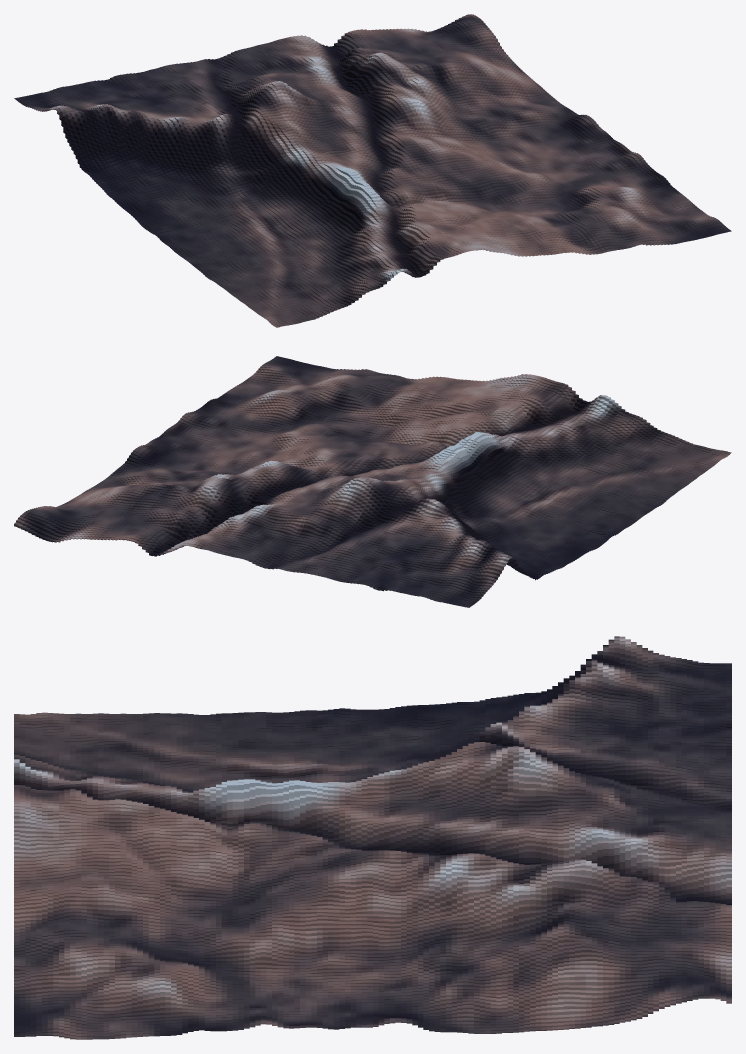
Rendered from chunk-09.glb.
The picture shows the model from 3 angles, top to bottom: view 1: azimuth 30°, elevation 25°; view 2: azimuth 150°, elevation 25°; view 3: azimuth 270°, elevation 25°; orthographic projection. The views are drawn at different scales.
Parts seen in each view (by area): view 1: Mesh_0.025; view 2: Mesh_0.025; view 3: Mesh_0.025.
Part boxes in pixels (x1,y1,x2,y2): Mesh_0.025: (14,14,731,327); Mesh_0.025: (14,356,731,607); Mesh_0.025: (14,636,731,1039).
Bounding box in the file's own units: 32000 × 5406 × 32000.
